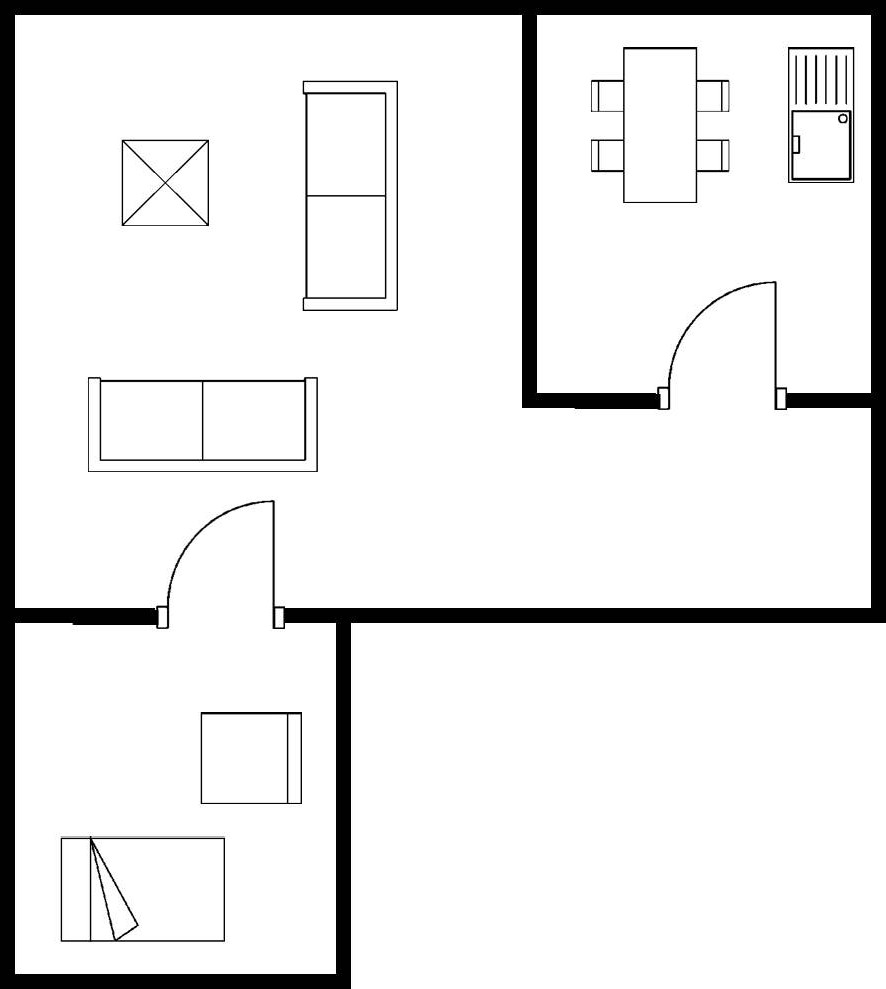bed: (54, 831, 231, 947)
coffee_table: (114, 134, 218, 232)
dining_table: (583, 41, 736, 210)
large_sofa: (295, 74, 403, 317), (81, 371, 324, 479)
sink: (779, 40, 860, 189)
small_sofa: (194, 707, 311, 813)
